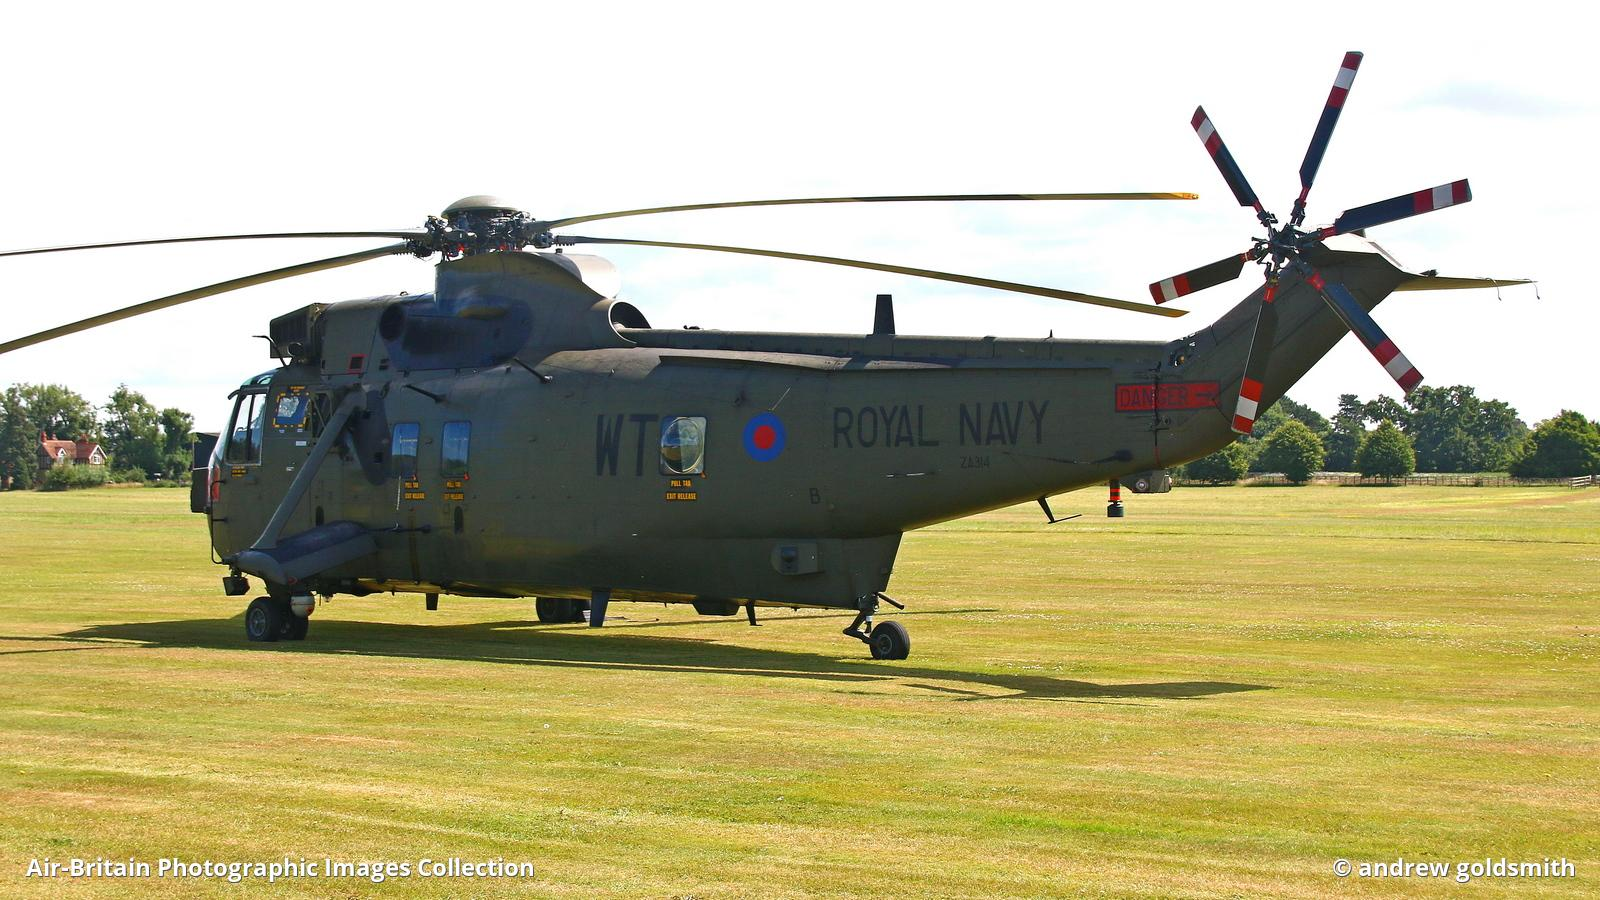Sea King: (145, 36, 1544, 670)
